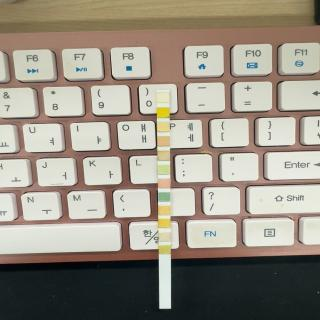mark: (156, 92, 170, 104), (157, 135, 170, 146), (158, 121, 170, 132), (157, 151, 170, 161), (157, 108, 170, 118), (159, 178, 170, 189), (159, 232, 171, 242), (158, 219, 170, 228), (158, 165, 170, 174), (158, 206, 170, 214), (160, 245, 170, 254), (159, 193, 170, 201)
